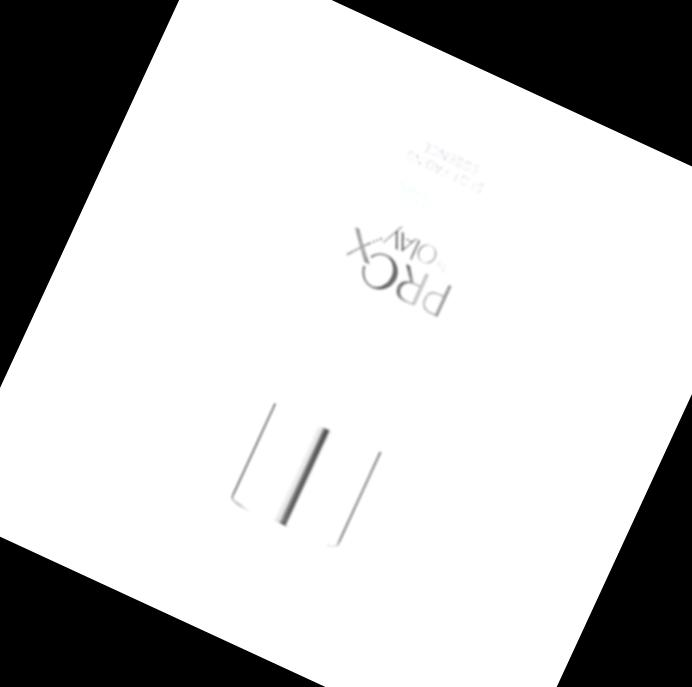cosmetic: (165, 76, 543, 643)
